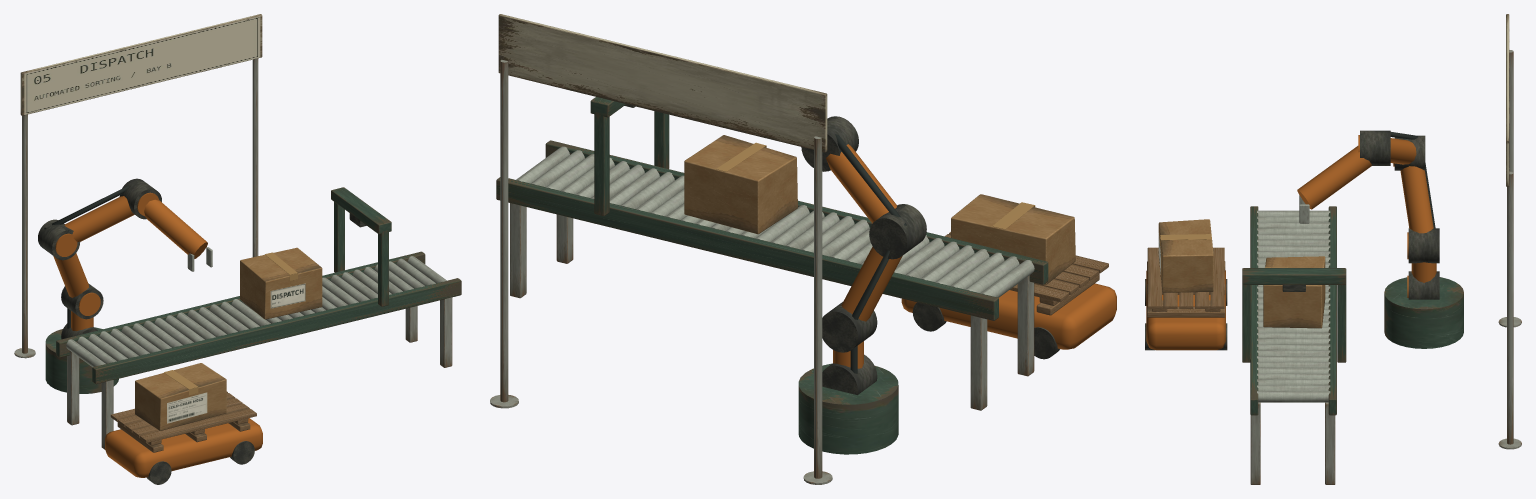
Rendered from 10_Dispatch.glb.
3 views of the same model, side by side, from view 1: azimuth 30°, elevation 25°; view 2: azimuth 150°, elevation 25°; view 3: azimuth 270°, elevation 25° (orthographic). The views are drawn at different scales.
Parts seen in each view (by area): view 1: S3, S0, S1, S5, S7, Dispatch_carton, S4, S2, S9, S11, S8, S10; view 2: S3, S11, S5, S7, Dispatch_carton, S1, S2, S4, S9, S10; view 3: S3, S5, S1, S7, S2, S4, Dispatch_carton, S9, S11.
Boxes of the visible parts, x1,y1,x2,y2 form: S3: (45,187,461,393); S0: (24,16,260,114); S1: (53,192,262,477); S5: (66,247,446,367); S7: (14,58,452,449); Dispatch_carton: (240,247,322,319); S4: (135,363,226,430); S2: (38,178,366,484); S9: (110,391,256,452); S11: (20,14,262,115); S8: (167,392,207,423); S10: (44,185,128,328); S3: (496,97,1048,454); S11: (498,14,827,152); S5: (516,146,1034,297); S7: (490,59,1034,484); Dispatch_carton: (684,135,797,234); S1: (826,144,1116,368); S2: (624,104,1059,395); S4: (951,194,1075,284); S9: (945,232,1108,315); S10: (835,134,906,373); S3: (1242,206,1463,415); S5: (1257,195,1330,402); S1: (1146,135,1436,350); S7: (1250,50,1521,484); S2: (1145,130,1439,350); S4: (1158,219,1213,292); Dispatch_carton: (1263,256,1325,328); S9: (1147,247,1225,317); S11: (1506,14,1509,186).
Bounding box in the file's own units: 3.62 × 2.63 × 2.93.
Materials: 13 (10 with a texture image).
